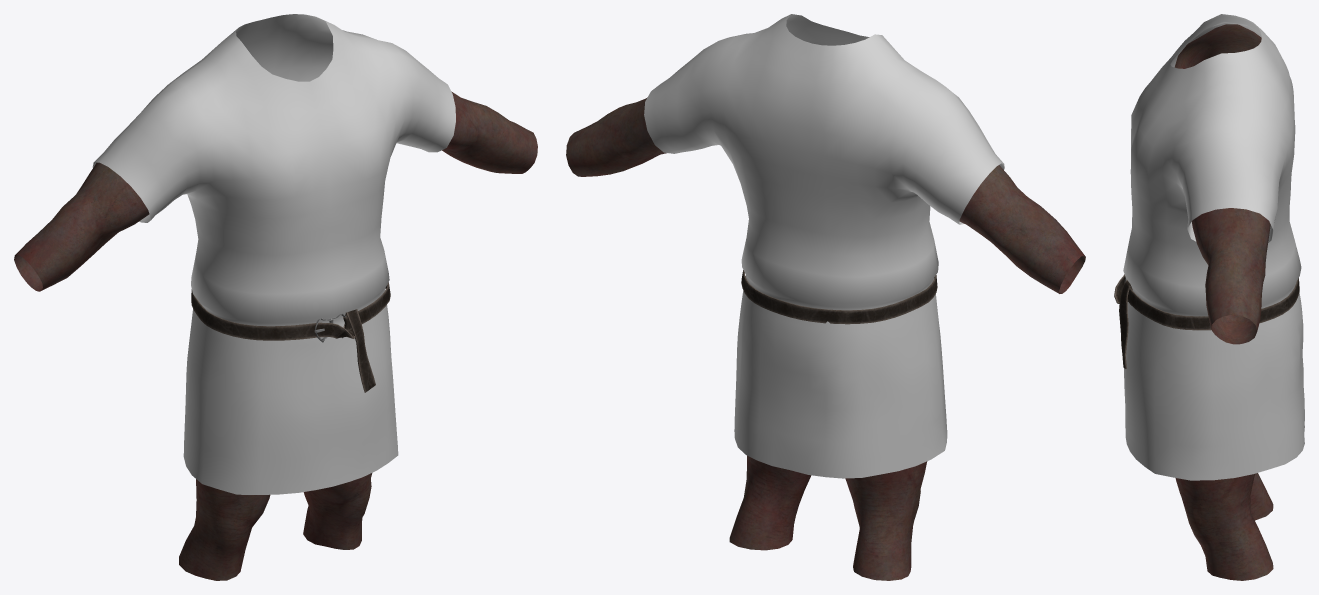
Rendered from sk_uruk_hai_chainmail_a1.fbx.
3 renders of one model, left to right at view 1: azimuth 30°, elevation 25°; view 2: azimuth 150°, elevation 25°; view 3: azimuth 270°, elevation 25°, orthographic. The views are drawn at different scales.
Parts seen in each view (by area): view 1: sk_uruk_hai_chainmail_a1.1, sk_uruk_hai_chainmail_a1.body.1, sk_uruk_hai_chainmail_a1.body.0, sk_uruk_hai_chainmail_a1.0; view 2: sk_uruk_hai_chainmail_a1.1, sk_uruk_hai_chainmail_a1.body.1, sk_uruk_hai_chainmail_a1.body.0, sk_uruk_hai_chainmail_a1.0; view 3: sk_uruk_hai_chainmail_a1.1, sk_uruk_hai_chainmail_a1.body.1, sk_uruk_hai_chainmail_a1.body.0, sk_uruk_hai_chainmail_a1.0.
Part boxes in pixels (box(x1,y1,x2,y2)): sk_uruk_hai_chainmail_a1.1: box(92, 14, 455, 494); sk_uruk_hai_chainmail_a1.body.1: box(14, 91, 537, 291); sk_uruk_hai_chainmail_a1.body.0: box(179, 473, 372, 580); sk_uruk_hai_chainmail_a1.0: box(191, 282, 390, 392); sk_uruk_hai_chainmail_a1.1: box(644, 14, 1004, 478); sk_uruk_hai_chainmail_a1.body.1: box(566, 97, 1085, 293); sk_uruk_hai_chainmail_a1.body.0: box(729, 455, 927, 580); sk_uruk_hai_chainmail_a1.0: box(741, 270, 937, 324); sk_uruk_hai_chainmail_a1.1: box(1123, 14, 1304, 480); sk_uruk_hai_chainmail_a1.body.1: box(1174, 24, 1270, 344); sk_uruk_hai_chainmail_a1.body.0: box(1175, 473, 1273, 580); sk_uruk_hai_chainmail_a1.0: box(1114, 274, 1299, 368).
Bounding box in the file's own units: 1.2 × 0.4051 × 1.19.
